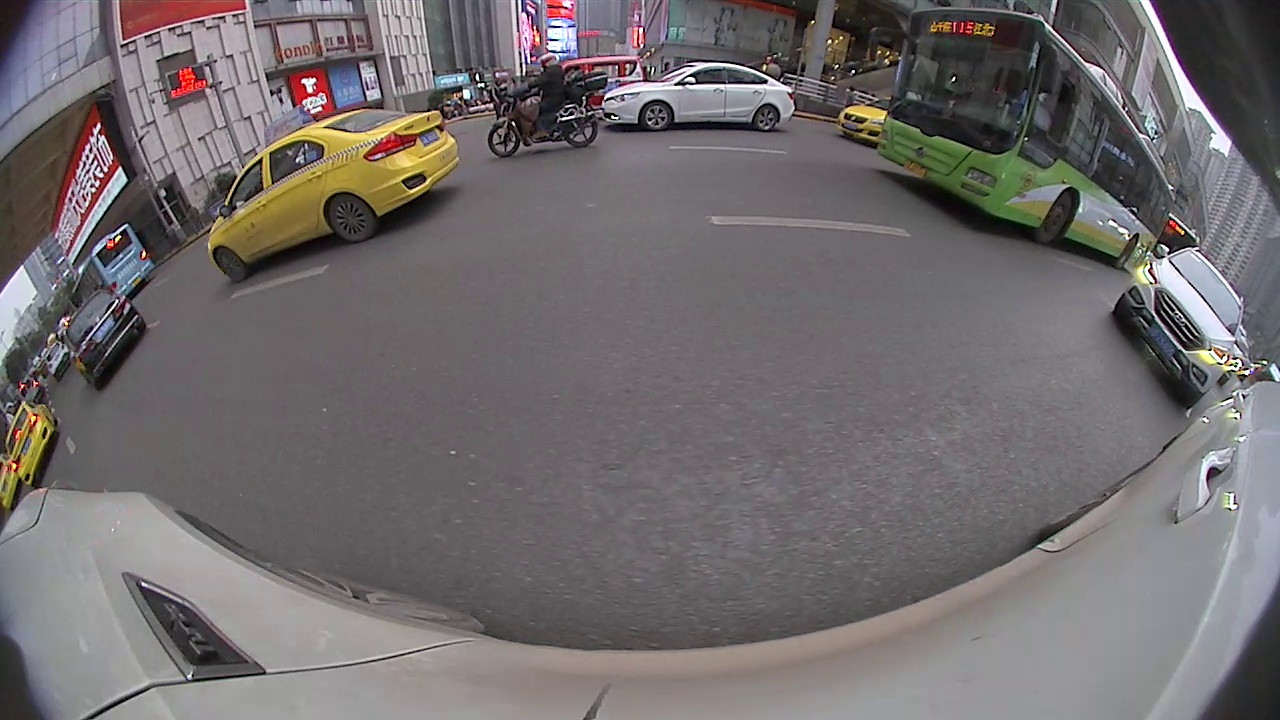bus: (876, 10, 1177, 277), (68, 218, 154, 312)
car: (207, 99, 461, 286), (1112, 241, 1249, 404), (593, 63, 799, 138), (60, 280, 143, 396), (8, 400, 58, 489)
front: (1031, 186, 1080, 245), (210, 250, 250, 283), (490, 125, 521, 156), (641, 104, 674, 127)
rear: (321, 196, 378, 242), (562, 114, 598, 146), (755, 105, 780, 132)
rider: (488, 54, 599, 156), (546, 48, 651, 121)
